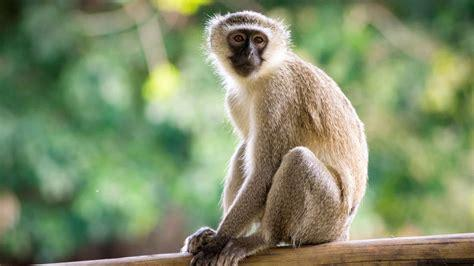monkey: (185, 13, 366, 266)
